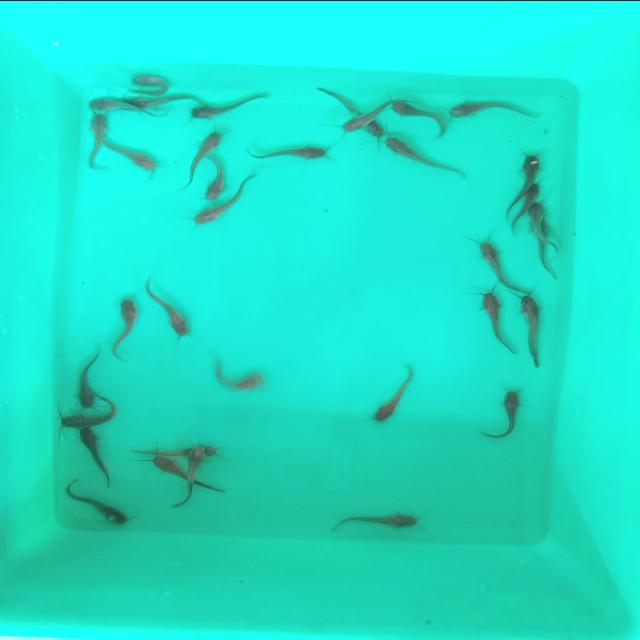lele: (315, 80, 387, 141), (366, 362, 414, 423), (381, 138, 453, 174), (131, 429, 225, 456), (67, 490, 129, 526), (333, 96, 392, 133), (476, 292, 511, 354), (328, 506, 418, 530), (486, 386, 524, 440), (112, 294, 140, 366), (518, 296, 546, 368), (150, 284, 190, 334), (445, 98, 527, 122), (73, 428, 112, 478), (391, 95, 443, 132), (478, 239, 514, 291), (58, 402, 123, 428), (75, 346, 101, 408), (179, 454, 205, 516), (83, 112, 110, 171), (111, 141, 159, 173), (190, 99, 266, 119), (187, 200, 245, 226), (186, 128, 221, 170), (532, 227, 560, 278), (208, 364, 258, 392), (250, 144, 330, 160), (123, 94, 199, 110), (510, 186, 538, 228), (202, 154, 226, 200), (515, 143, 539, 187), (127, 72, 173, 94), (80, 94, 136, 112), (528, 198, 554, 228), (150, 456, 182, 478)
